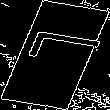L_E: (9, 33, 101, 77)
